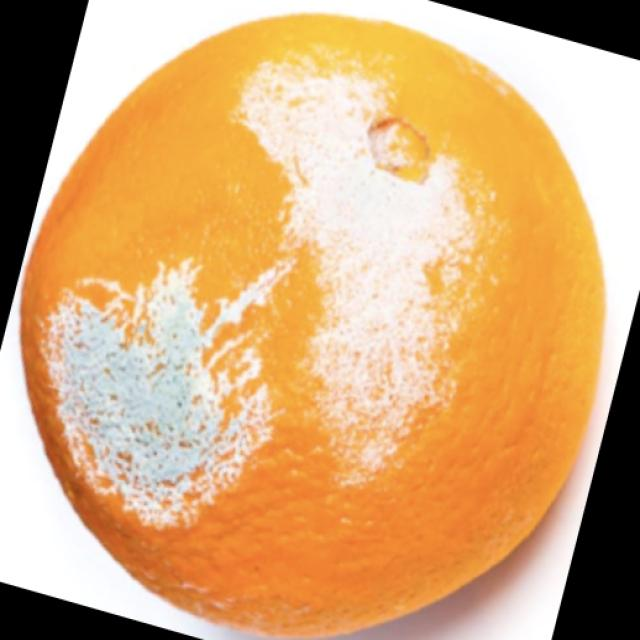sedikit_busuk: (13, 14, 607, 631)
